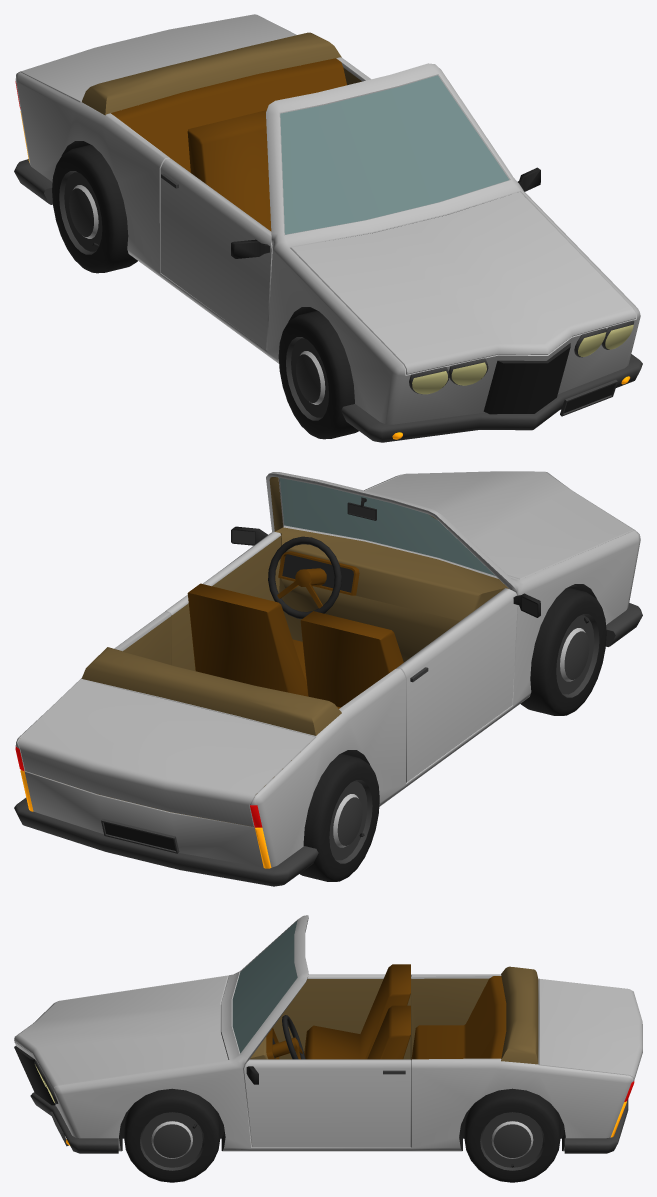
File: Cartoon_Convertible_C01.dae
3 renders of one model, top to bottom at view 1: azimuth 30°, elevation 25°; view 2: azimuth 150°, elevation 25°; view 3: azimuth 270°, elevation 25°, orthographic. The views are drawn at different scales.
Visible parts, largest first — view 1: elements, body, hood, door_right, trunk, Tire_Rear_R, Tire_Front_R; view 2: body, elements, trunk, hood, door_right, Tire_Front_R, Tire_Rear_R, door_left, volant; view 3: body, elements, hood, door_left, trunk, Tire_Front_L, Tire_Rear_L, door_right, volant.
Boxes of the visible parts, box(x1,y1,x2,y2) form: elements: box(14, 32, 642, 442); body: box(15, 14, 640, 424); hood: box(290, 192, 635, 374); door_right: box(160, 158, 272, 350); trunk: box(18, 14, 296, 102); Tire_Rear_R: box(52, 144, 137, 273); Tire_Front_R: box(278, 310, 358, 439); body: box(15, 472, 640, 867); elements: box(14, 478, 642, 886); trunk: box(18, 679, 315, 826); hood: box(365, 471, 635, 579); door_right: box(396, 588, 540, 782); Tire_Front_R: box(520, 587, 606, 715); Tire_Rear_R: box(300, 753, 379, 881); door_left: box(165, 526, 281, 670); volant: box(268, 536, 341, 618); body: box(14, 915, 633, 1151); elements: box(14, 921, 634, 1153); hood: box(14, 976, 228, 1090); door_left: box(243, 1059, 411, 1147); trunk: box(538, 979, 642, 1080); Tire_Front_L: box(124, 1088, 220, 1182); Tire_Rear_L: box(464, 1088, 560, 1182); door_right: box(273, 974, 411, 1059); volant: box(272, 1015, 305, 1059).
Size of the model in its own units: 188 by 149 by 444.
